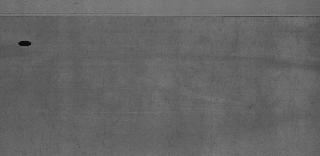punching hole: (16, 40, 34, 48)
welding line: (1, 12, 320, 20)
